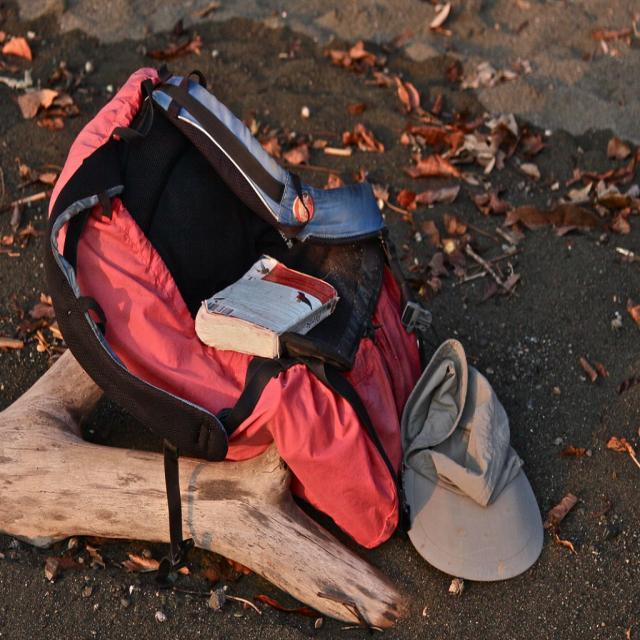Backpacks: (32, 55, 423, 553)
